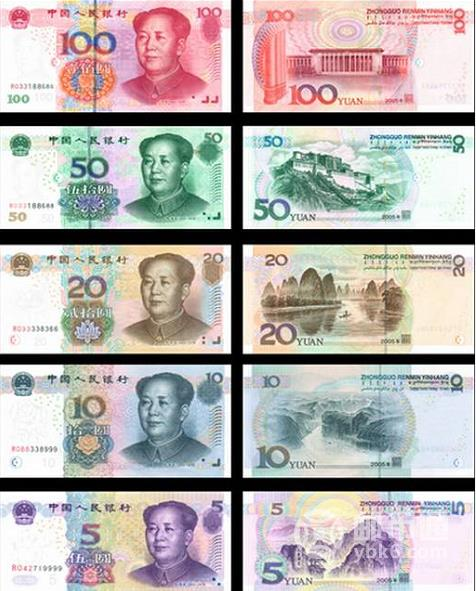rmb: (1, 1, 231, 114), (244, 365, 474, 477), (244, 1, 474, 111), (1, 366, 231, 475), (244, 247, 474, 354), (1, 246, 229, 353), (243, 127, 474, 230), (1, 127, 231, 226), (1, 493, 230, 590), (244, 494, 473, 591)
